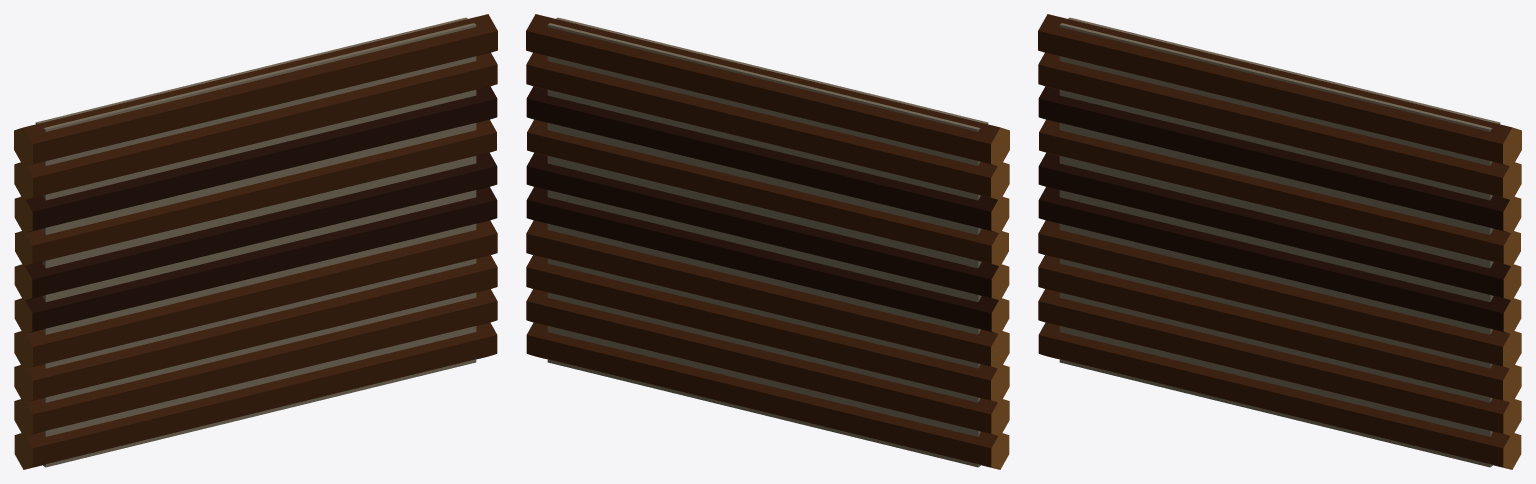
The model's file is SM_Bld_Wall_Log_Solid.glb.
3 views of the same model, side by side, from view 1: azimuth 30°, elevation 25°; view 2: azimuth 150°, elevation 25°; view 3: azimuth 330°, elevation 25° (orthographic).
Visible parts, largest first — view 1: SM_Bld_Wall_Log_Solid; view 2: SM_Bld_Wall_Log_Solid; view 3: SM_Bld_Wall_Log_Solid.
Part boxes in pixels (x1,y1,x2,y2): SM_Bld_Wall_Log_Solid: (14, 14, 497, 469); SM_Bld_Wall_Log_Solid: (526, 14, 1009, 469); SM_Bld_Wall_Log_Solid: (1038, 14, 1521, 469).
Bounding box in the file's own units: 4.32 × 3.04 × 0.3039.
Materials: 1 (1 with a texture image).
